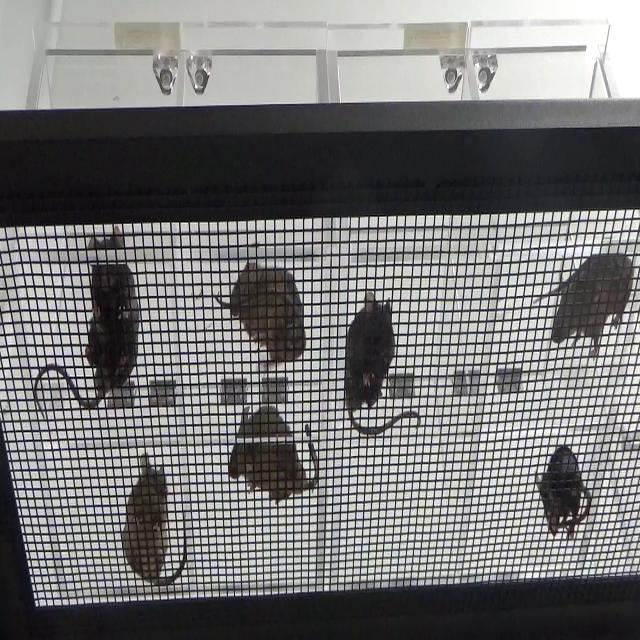lick claw: (334, 286, 430, 446)
